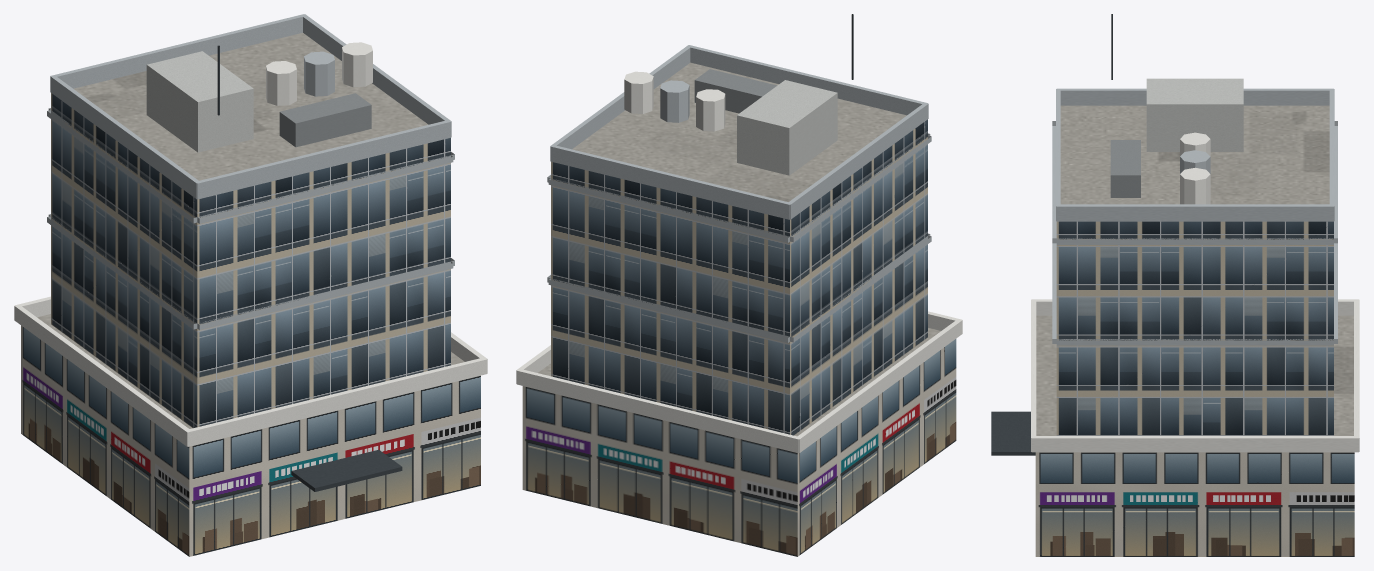
The model's file is OW_CaoOc_TT_VanPhong_26.fbx.
3 views of the same model, side by side, from view 1: azimuth 30°, elevation 25°; view 2: azimuth 150°, elevation 25°; view 3: azimuth 270°, elevation 25° (orthographic). The views are drawn at different scales.
Parts seen in each view (by area): view 1: OW_CaoOc_TT_VanPhong_26_LOD0; view 2: OW_CaoOc_TT_VanPhong_26_LOD0; view 3: OW_CaoOc_TT_VanPhong_26_LOD0.
Boxes of the visible parts, left/top/right/bottom form: OW_CaoOc_TT_VanPhong_26_LOD0: left=14, top=14, right=487, bottom=556; OW_CaoOc_TT_VanPhong_26_LOD0: left=516, top=14, right=962, bottom=556; OW_CaoOc_TT_VanPhong_26_LOD0: left=991, top=14, right=1359, bottom=556.
Size of what is drawn, in the model's own units: 23.7 by 35 by 26.55.
